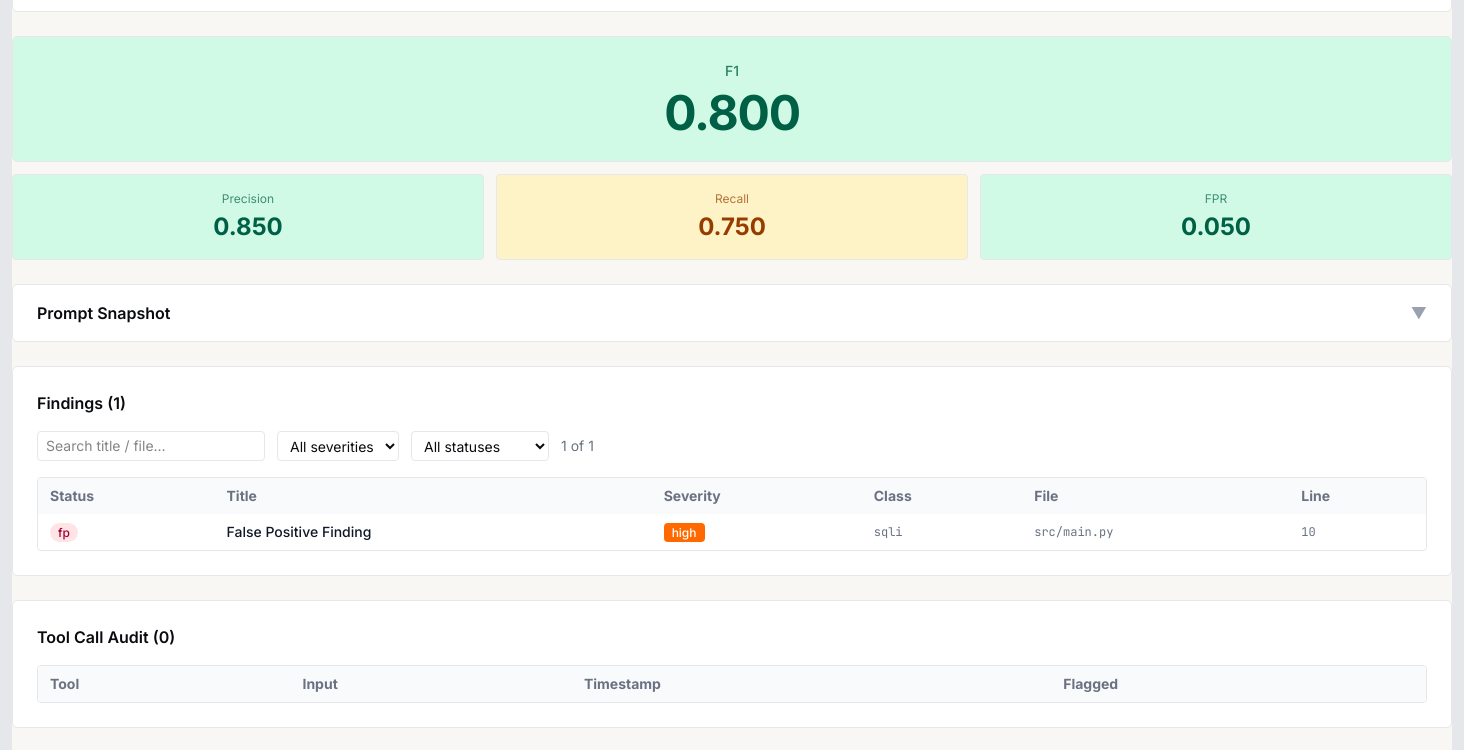
RunDetail — findings table › shows Reclassify button for FP findings when expanded
This screenshot has width=1464, height=750.
(page scrolled)
Click the text "False Positive Finding". click: click(299, 532)
box: [214,514,652,550]
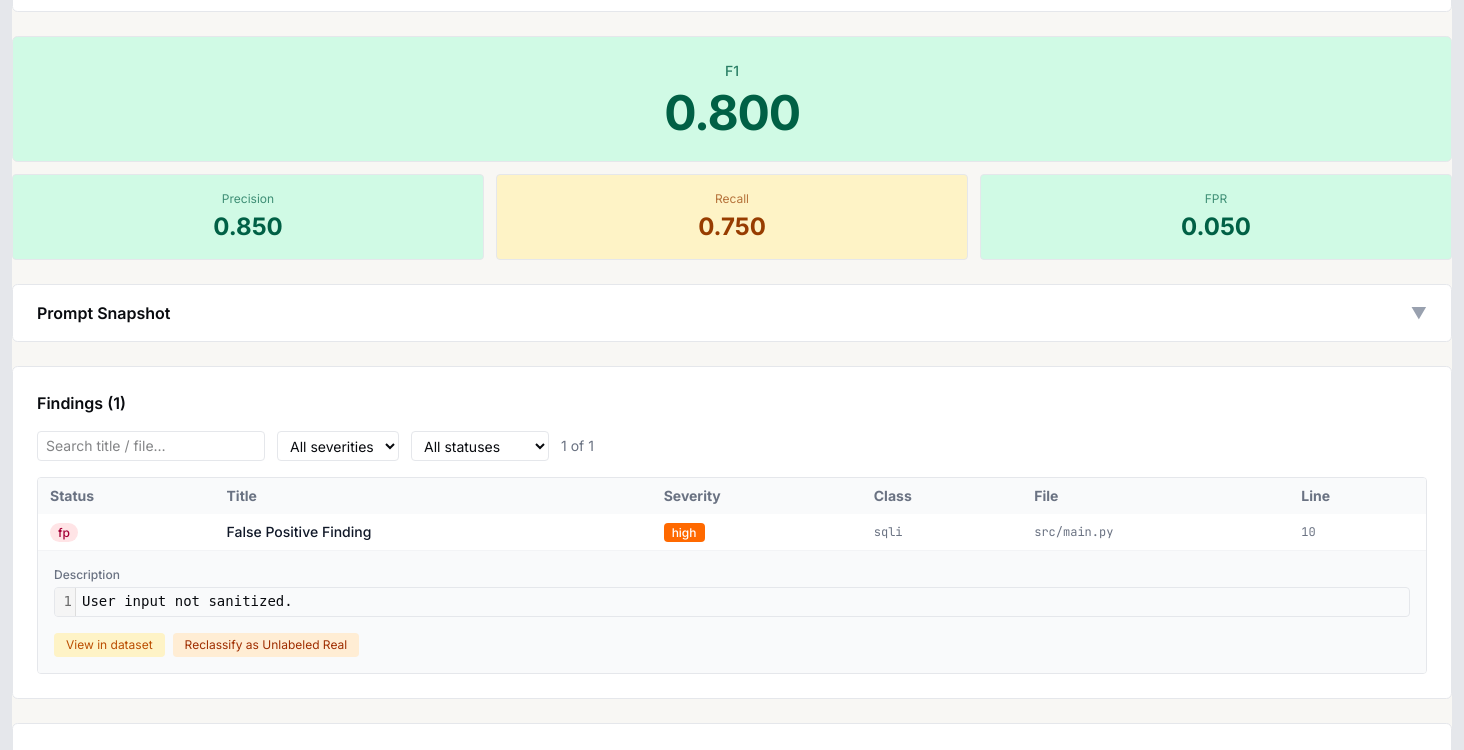
Result: the button "Reclassify as Unlabeled Real" is shown at [173,633,359,657]
